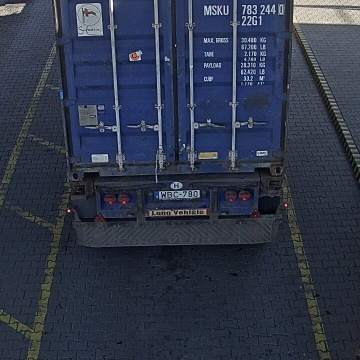serial_id: (204, 4, 284, 15)
